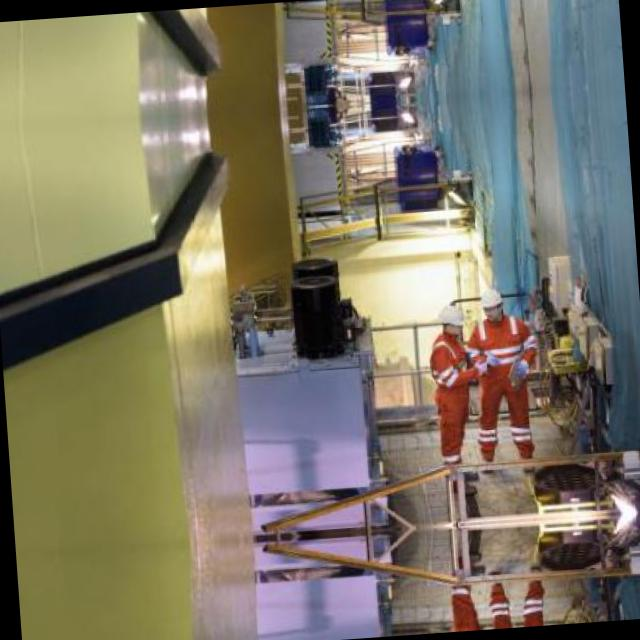helmet: (475, 286, 509, 324), (438, 299, 464, 338)
